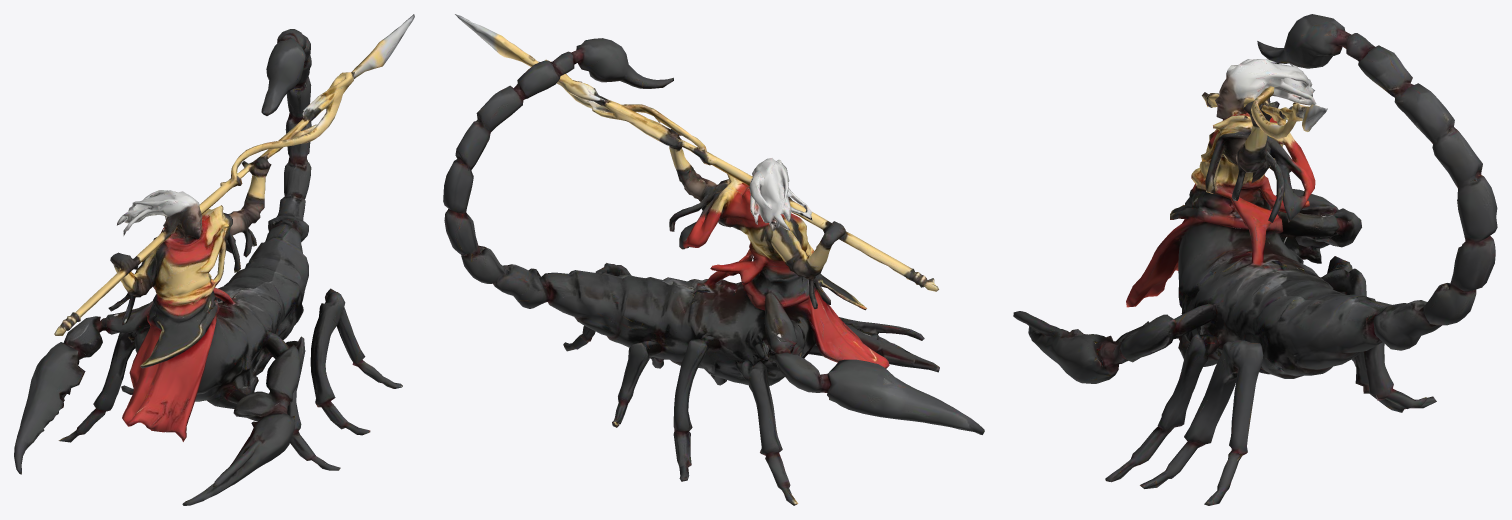
File: Girtablilu_final.glb
3 renders of one model, left to right at view 1: azimuth 30°, elevation 25°; view 2: azimuth 150°, elevation 25°; view 3: azimuth 270°, elevation 25°, orthographic. The views are drawn at different scales.
Parts seen in each view (by area): view 1: Mesh_0; view 2: Mesh_0; view 3: Mesh_0.
Boxes of the visible parts, <box> form: Mesh_0: <box>14,14,414,505</box>; Mesh_0: <box>443,14,984,505</box>; Mesh_0: <box>1013,14,1497,505</box>.
Bounding box in the file's own units: 3.82 × 3 × 2.71.
Materials: 1 (1 with a texture image).
